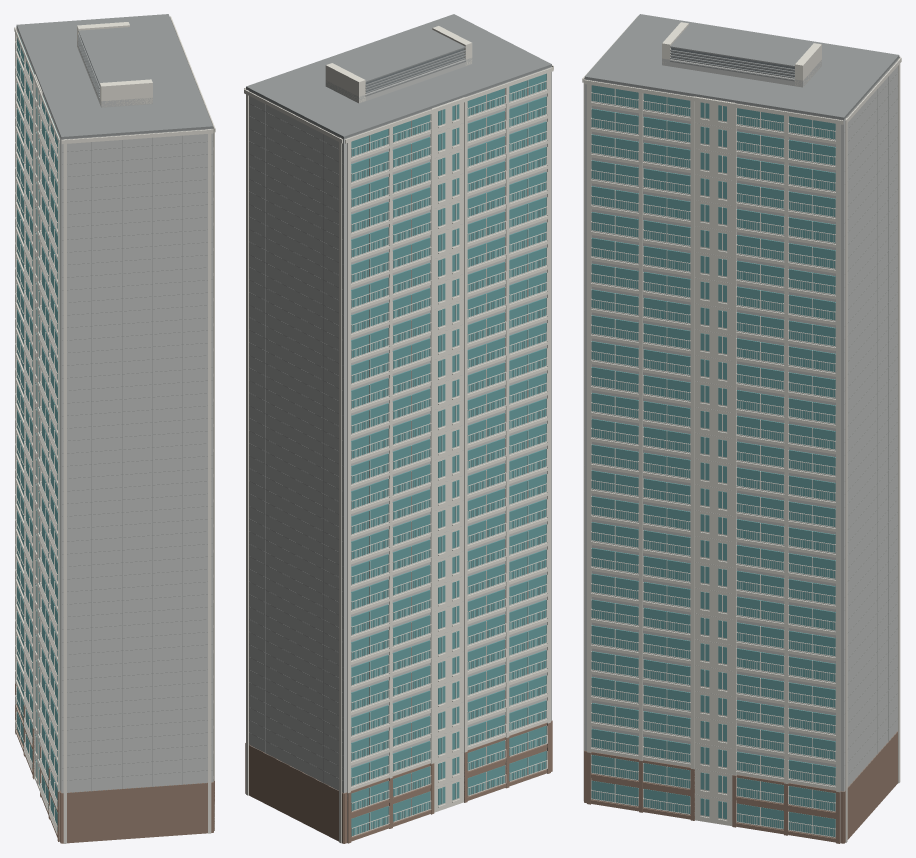
Rendered from bespoke-jamsil-els-112.glb.
3 views of the same model, side by side, from view 1: azimuth 30°, elevation 25°; view 2: azimuth 150°, elevation 25°; view 3: azimuth 270°, elevation 25° (orthographic). The views are drawn at different scales.
Visible parts, largest first — view 1: Els112_editable_Els112_light_grey_solid_wall, Els112_editable_Els112_modest_grey_flat_roof_caps, Els112_white_exact_chunk_1, Els112_editable_Els112_turquoise_balcony_glazing, Els112_white_exact_chunk_0, Els112_editable_Els112_muted_ground_wall, Els112_white_exact_chunk_3, Els112_white_exact_chunk_2; view 2: Els112_editable_Els112_turquoise_balcony_glazing, Els112_editable_Els112_light_grey_solid_wall, Els112_white_exact_chunk_0, Els112_white_exact_chunk_1, Els112_editable_Els112_modest_grey_flat_roof_caps, Els112_editable_Els112_muted_ground_wall, Els112_white_exact_chunk_3, Els112_editable_Els112_narrow_charcoal_service_strips; view 3: Els112_editable_Els112_turquoise_balcony_glazing, Els112_editable_Els112_light_grey_solid_wall, Els112_white_exact_chunk_2, Els112_white_exact_chunk_3, Els112_white_exact_chunk_1, Els112_editable_Els112_modest_grey_flat_roof_caps, Els112_editable_Els112_muted_ground_wall, Els112_white_exact_chunk_0, Els112_editable_Els112_narrow_charcoal_service_strips.
Part boxes in pixels (bbox=[...]): Els112_editable_Els112_light_grey_solid_wall: bbox=[16, 27, 213, 792]; Els112_editable_Els112_modest_grey_flat_roof_caps: bbox=[16, 14, 213, 793]; Els112_white_exact_chunk_1: bbox=[14, 27, 213, 843]; Els112_editable_Els112_turquoise_balcony_glazing: bbox=[17, 33, 59, 830]; Els112_white_exact_chunk_0: bbox=[15, 26, 48, 812]; Els112_editable_Els112_muted_ground_wall: bbox=[15, 683, 214, 843]; Els112_white_exact_chunk_3: bbox=[77, 16, 215, 132]; Els112_white_exact_chunk_2: bbox=[195, 80, 214, 830]; Els112_editable_Els112_turquoise_balcony_glazing: bbox=[351, 73, 546, 835]; Els112_editable_Els112_light_grey_solid_wall: bbox=[246, 58, 551, 793]; Els112_white_exact_chunk_0: bbox=[244, 89, 506, 843]; Els112_white_exact_chunk_1: bbox=[345, 65, 553, 801]; Els112_editable_Els112_modest_grey_flat_roof_caps: bbox=[246, 14, 551, 789]; Els112_editable_Els112_muted_ground_wall: bbox=[245, 720, 552, 843]; Els112_white_exact_chunk_3: bbox=[244, 26, 472, 102]; Els112_editable_Els112_narrow_charcoal_service_strips: bbox=[365, 48, 464, 91]; Els112_editable_Els112_turquoise_balcony_glazing: bbox=[591, 85, 835, 836]; Els112_editable_Els112_light_grey_solid_wall: bbox=[584, 58, 899, 800]; Els112_white_exact_chunk_2: bbox=[587, 80, 784, 829]; Els112_white_exact_chunk_3: bbox=[583, 22, 843, 843]; Els112_white_exact_chunk_1: bbox=[582, 16, 900, 825]; Els112_editable_Els112_modest_grey_flat_roof_caps: bbox=[584, 14, 899, 787]; Els112_editable_Els112_muted_ground_wall: bbox=[584, 731, 897, 843]; Els112_white_exact_chunk_0: bbox=[845, 57, 901, 842]; Els112_editable_Els112_narrow_charcoal_service_strips: bbox=[671, 47, 794, 76].
Bounding box in the file's own units: 23.23 × 76.75 × 29.71.
